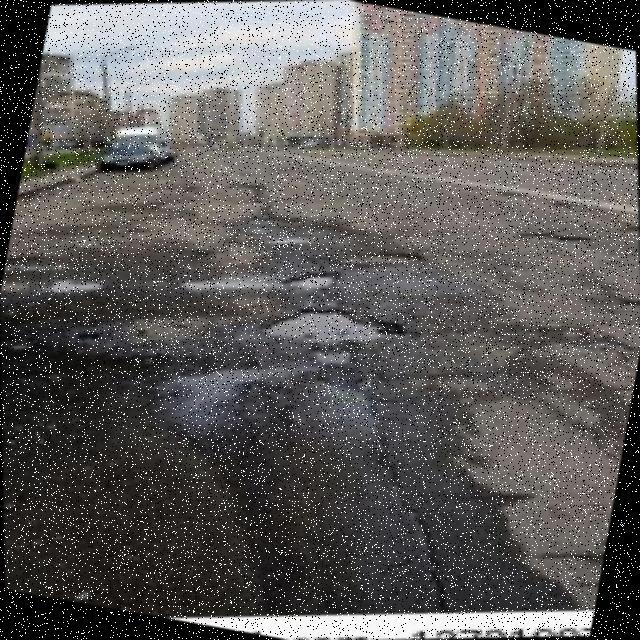Pothole: (263, 309, 405, 365)
